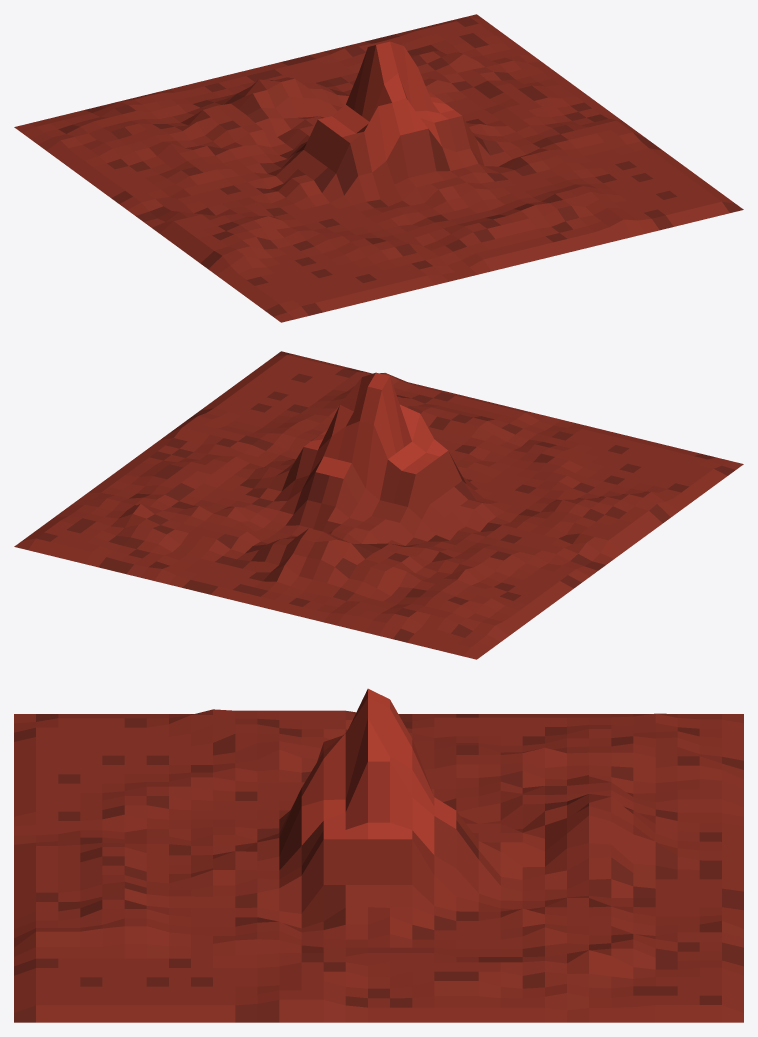
Rendered from Terrain_4_Red.fbx.
3 renders of one model, top to bottom at view 1: azimuth 30°, elevation 25°; view 2: azimuth 150°, elevation 25°; view 3: azimuth 270°, elevation 25°, orthographic. The views are drawn at different scales.
Parts seen in each view (by area): view 1: Terrain_4_Red; view 2: Terrain_4_Red; view 3: Terrain_4_Red.
Boxes of the visible parts, bbox=[...] form: Terrain_4_Red: bbox=[14, 14, 743, 322]; Terrain_4_Red: bbox=[14, 351, 743, 659]; Terrain_4_Red: bbox=[14, 688, 743, 1022].
Size of the model in its own units: 10000 by 2647 by 10000.
